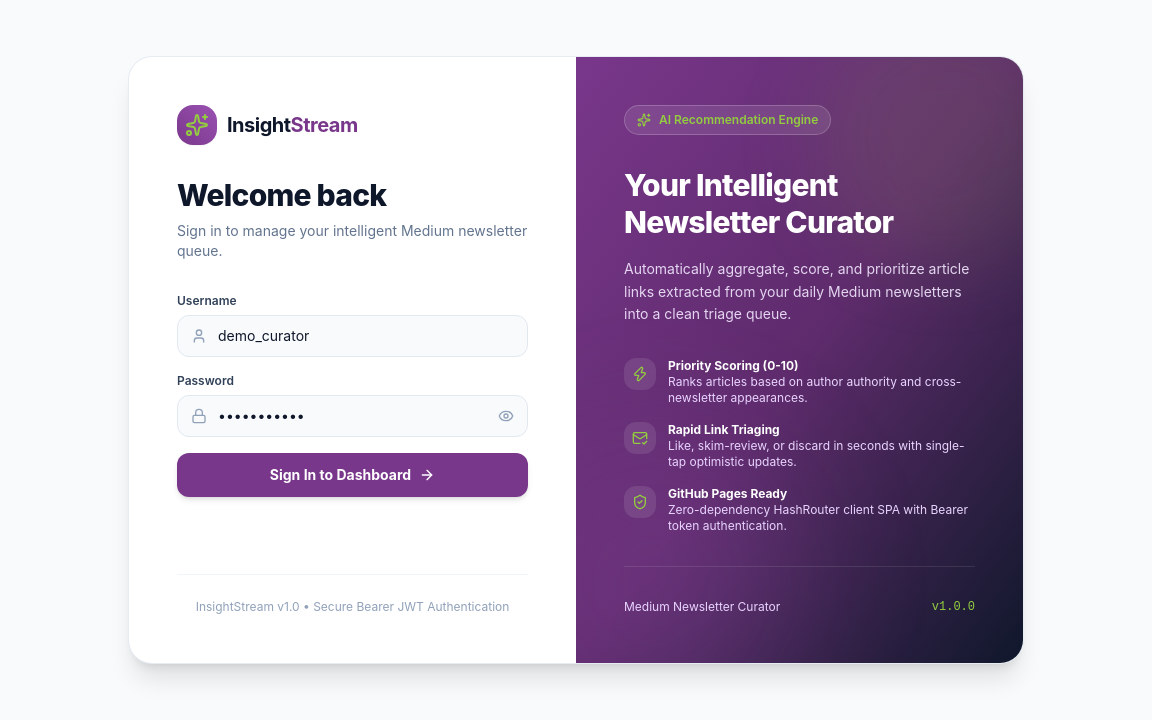
LoginPage › toggles password visibility
The image size is (1152, 720).
Click the 1st button at (513, 416), box [498,395,528,437]
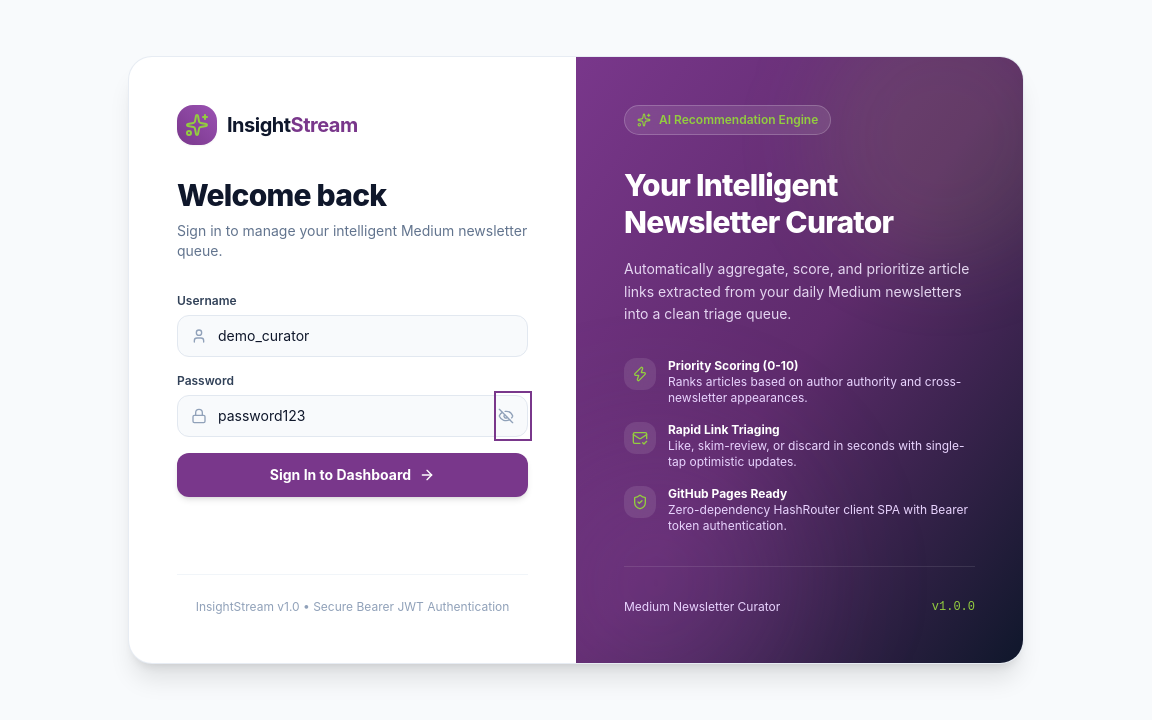
Now the field with placeholder "••••••••" below "Password" shows its text, box [177,395,528,437]
